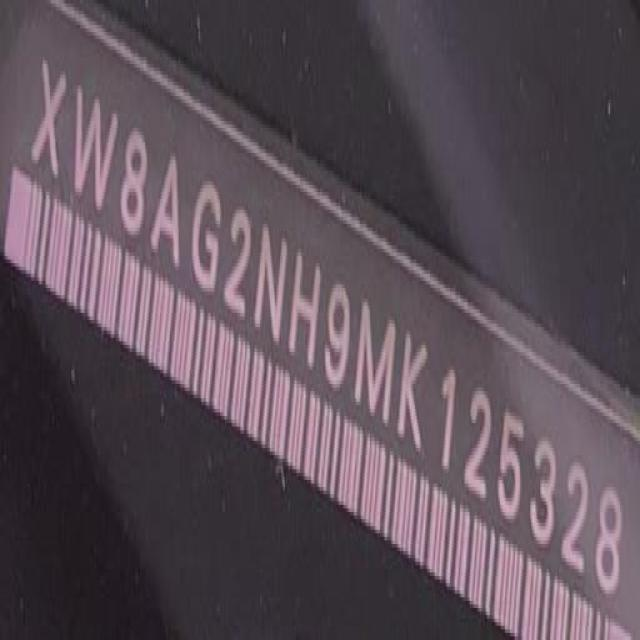1: (432, 356, 458, 484)
2: (456, 374, 496, 510), (219, 196, 254, 330), (558, 454, 594, 584)
3: (524, 430, 561, 560)
5: (496, 403, 525, 525)
8: (592, 476, 631, 611), (115, 124, 152, 249)
9: (322, 281, 351, 394)
A: (148, 145, 188, 275)
G: (187, 170, 227, 304)
H: (285, 242, 325, 378)
K: (398, 332, 428, 459)
M: (352, 293, 398, 437)
N: (252, 215, 293, 360)
W: (72, 84, 120, 220)
X: (26, 53, 73, 192)
